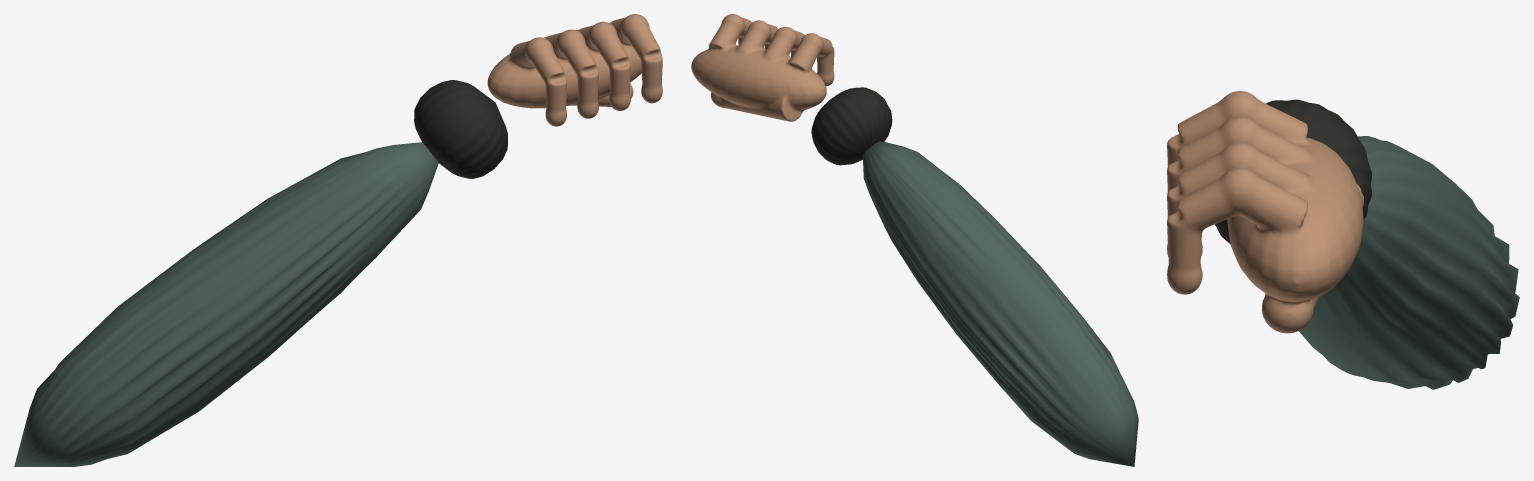
File: SM_RightArm.fbx
3 views of the same model, side by side, from view 1: azimuth 30°, elevation 25°; view 2: azimuth 150°, elevation 25°; view 3: azimuth 270°, elevation 25° (orthographic). The views are drawn at different scales.
Parts seen in each view (by area): view 1: SM_RightArm; view 2: SM_RightArm; view 3: SM_RightArm.
Boxes of the visible parts, x1=… form: SM_RightArm: x1=14, y1=14, x2=662, y2=466; SM_RightArm: x1=691, y1=14, x2=1138, y2=466; SM_RightArm: x1=1167, y1=91, x2=1519, y2=389.
Bounding box in the file's own units: 42.24 × 13.38 × 25.45.
